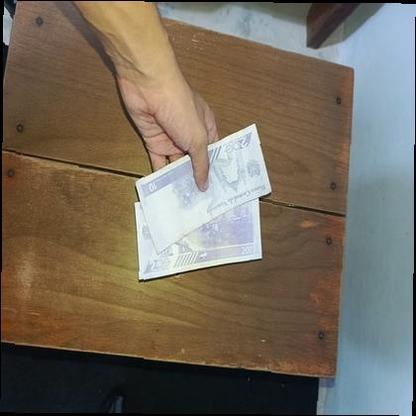ten-back-vef: (134, 122, 272, 254)
two_hundred-back-vef: (134, 202, 262, 282)
